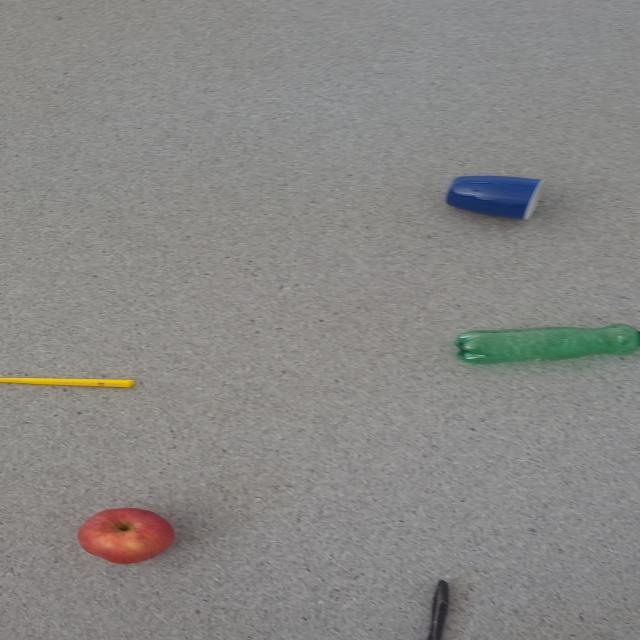apple: (76, 507, 175, 564)
bottle: (453, 322, 639, 364)
mug: (445, 174, 545, 220)
toothbrush: (423, 578, 456, 640), (0, 377, 136, 388)
